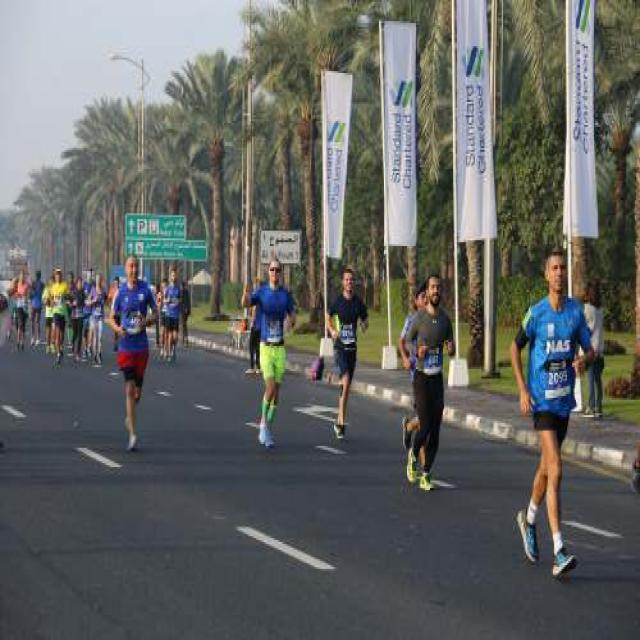running: (510, 247, 599, 578), (398, 271, 457, 498), (240, 257, 298, 448), (111, 253, 158, 458), (326, 268, 372, 438)
